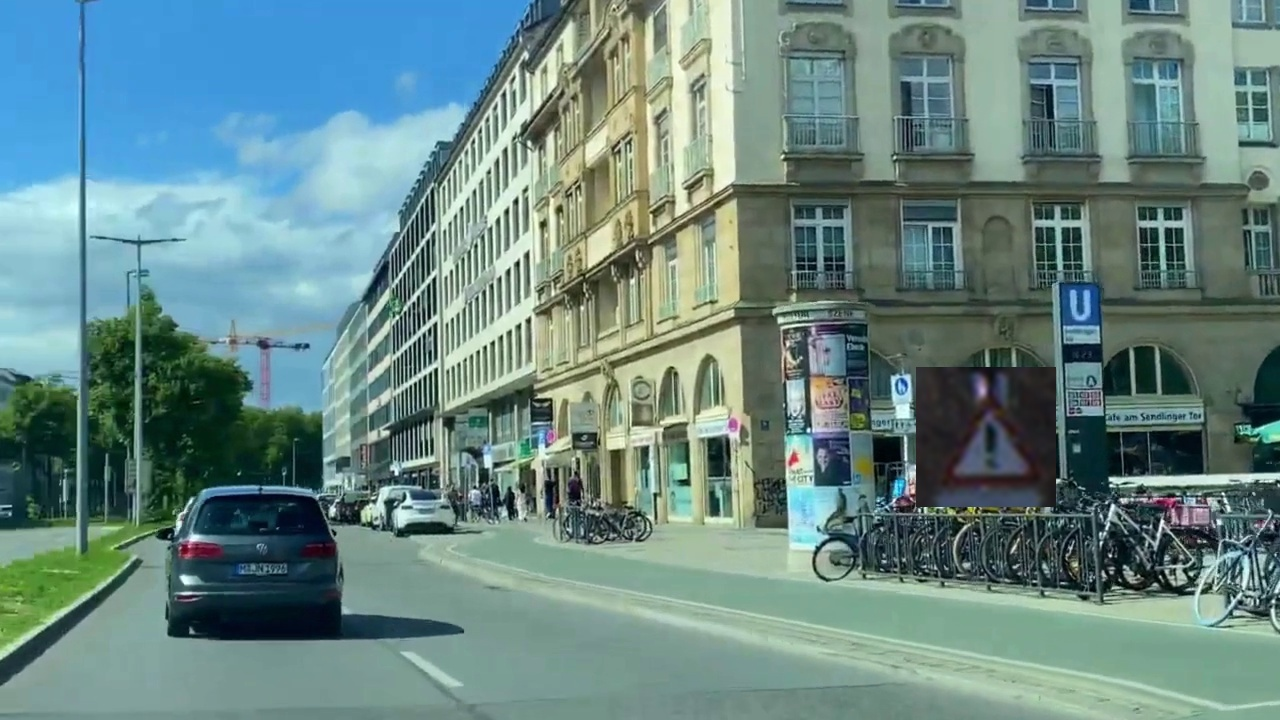Caution: (916, 367, 1056, 507)
